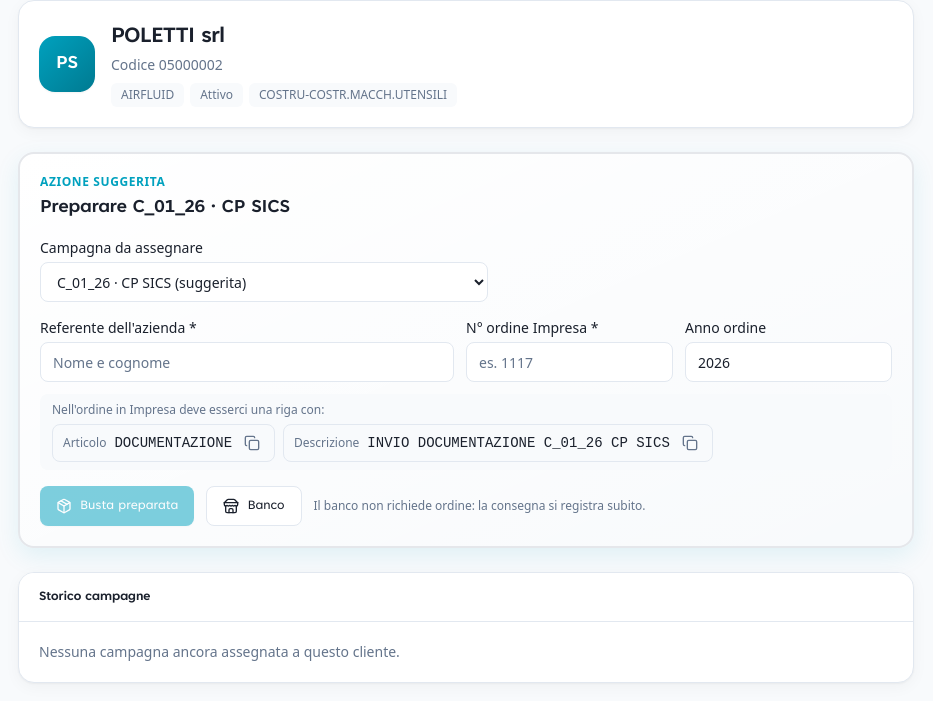
scheda cliente › «Busta preparata» resta spenta finché mancano referente e ordine
Expected: the button "Busta preparata" is disabled, [40,486,194,526]
In the field with placeholder "Nome e cognome": (247, 362) [40,342,454,382], type "Mario Rossi"
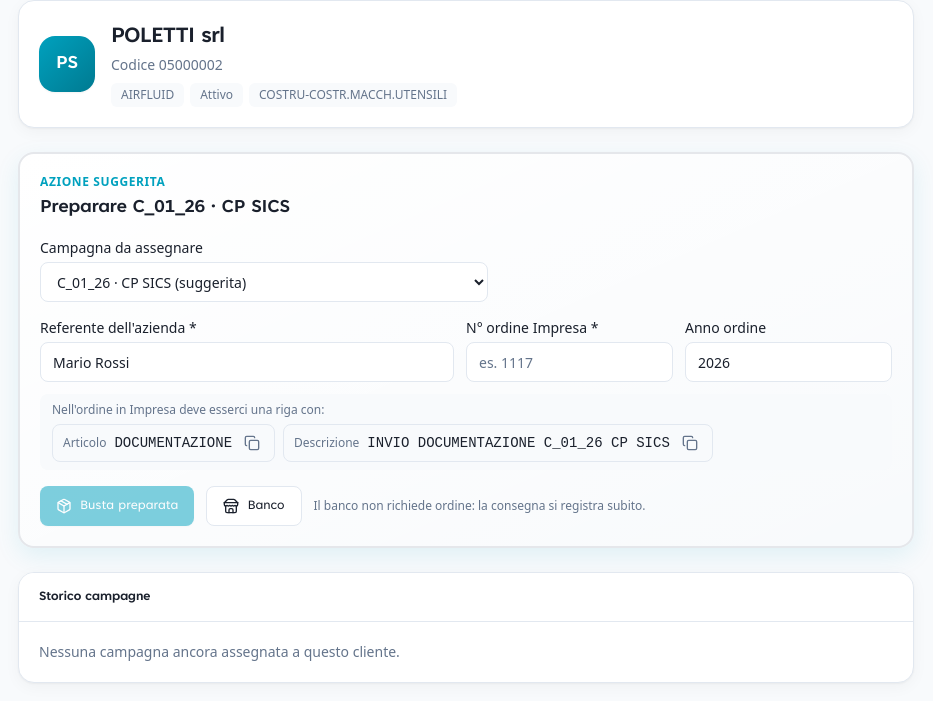
Expected: the button "Busta preparata" is disabled, [40,486,194,526]
In the field with placeholder "es. 1117": (570, 362) [466,342,673,382], type "1117"
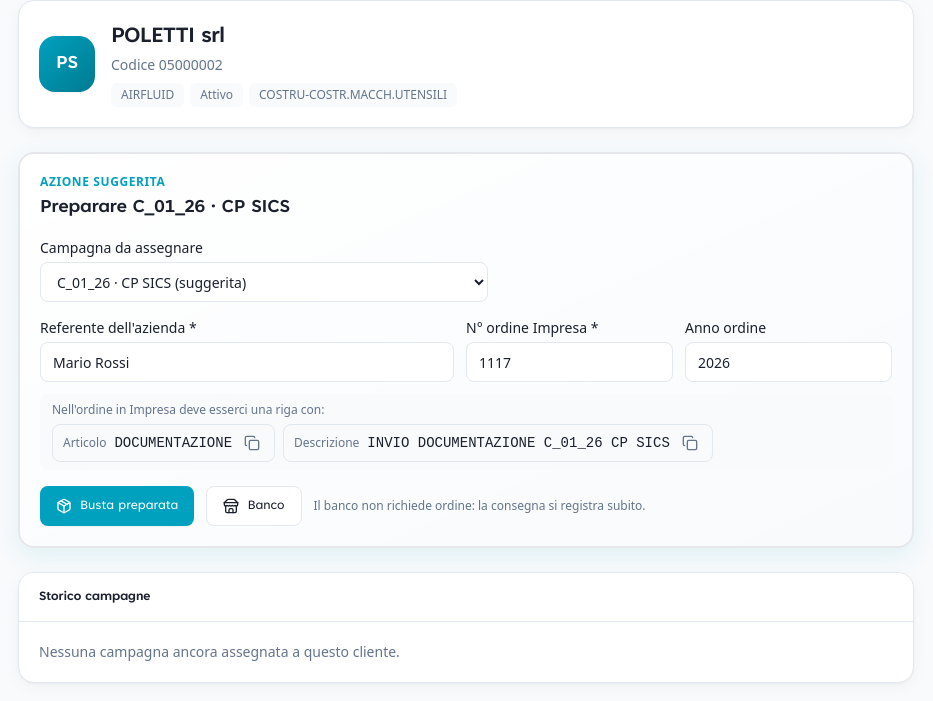
Expected: the button "Busta preparata" is enabled, [40,486,194,526]
